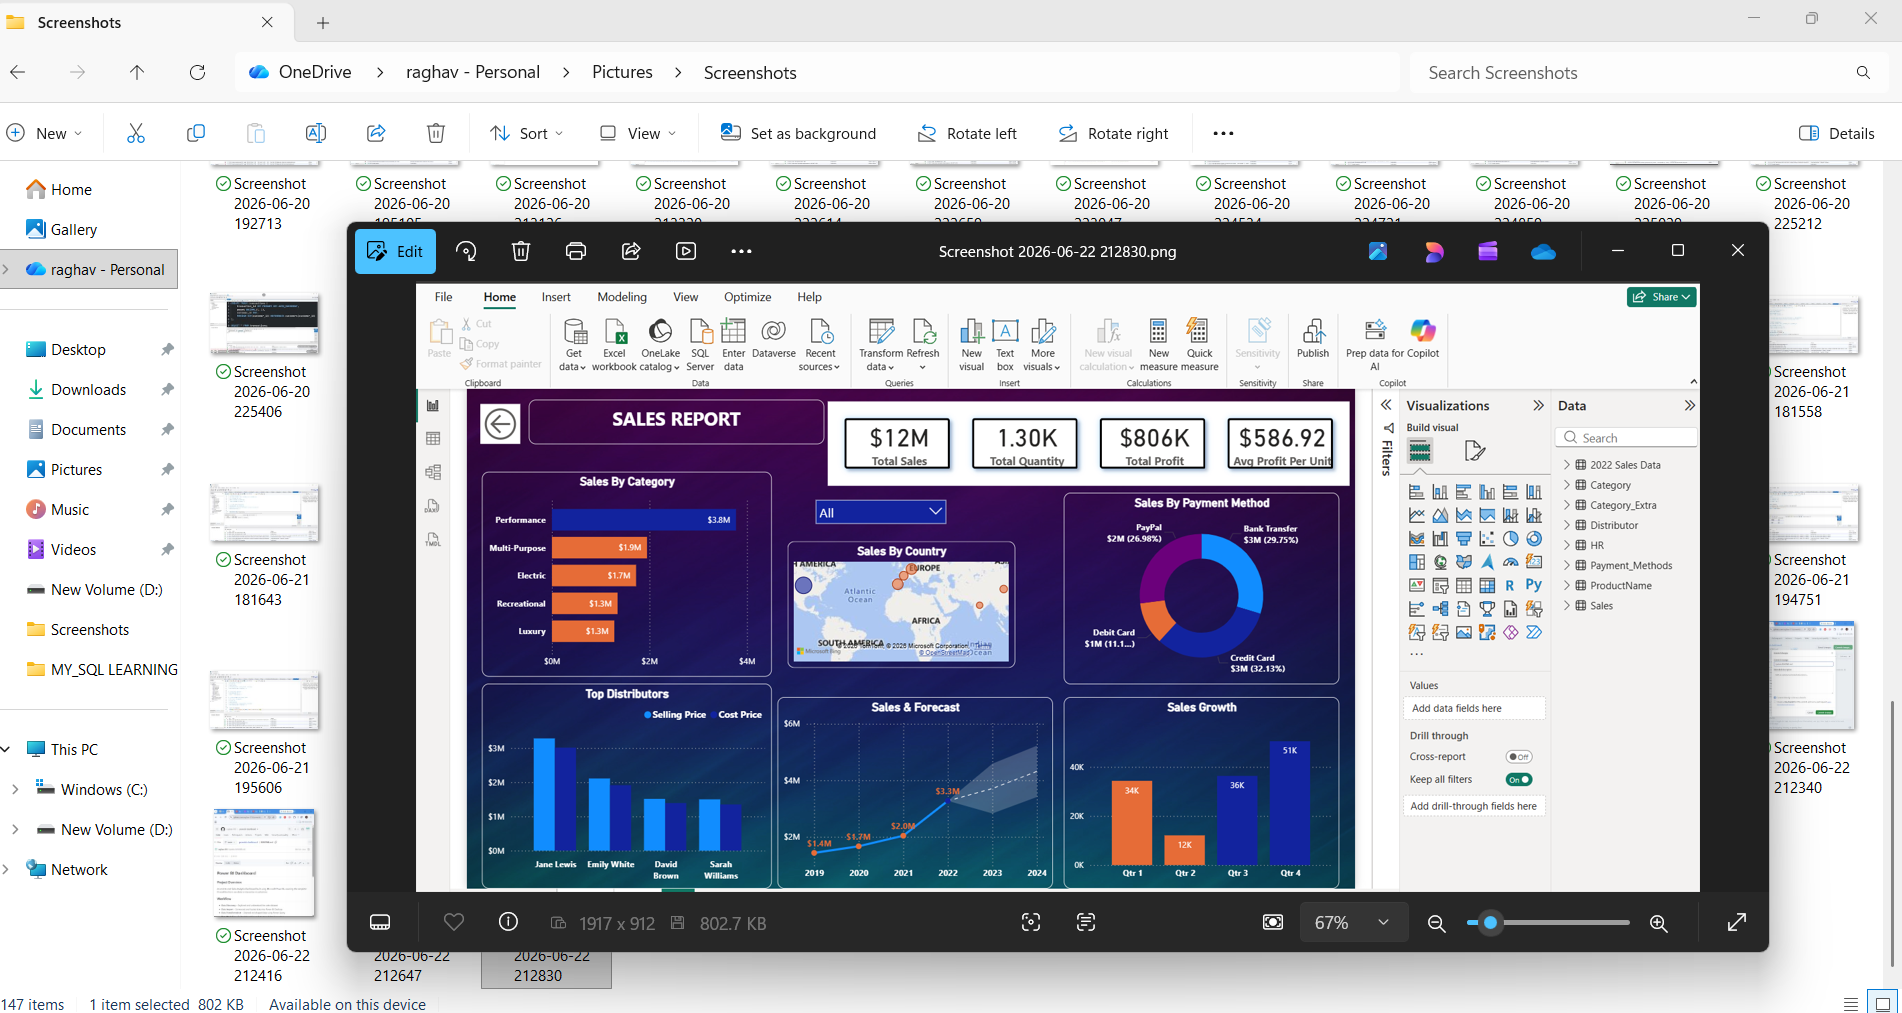

The page's visual inventory and layout, read from the dashboard file:
{"tool":"powerbi","page":{"name":"Sales","canvas":[1280,720],"ordinal":0},"visuals":[{"type":"textbox","box":[89.3,15.7,425.9,63.9],"z":0},{"type":"cardVisual","fields":{"Data":["Sum(Sales.Sales($))","Sum(Sales.QuantitySold )","Sum(Sales.Profit)","Avg(Sales.ProfitPerUnit)"]},"box":[515.2,13.3,764.9,131.5],"z":1000},{"type":"barChart","title":"Sales By Category","fields":{"Y":["Sum(Sales.Sales($))"],"Category":["Category.CategoryType"]},"box":[21.7,119.4,417.4,295.6],"z":2000},{"type":"clusteredColumnChart","title":"Top Distributors","fields":{"Y":["Sum(Sales.Sales($))","Sum(Sales.TotalProductionCost)"],"Category":["Distributor.FullName"]},"box":[21.7,424.7,417.4,295.6],"z":3000},{"type":"clusteredColumnChart","title":"Sales Growth","fields":{"Category":["Sales.Date       .Variation.Date Hierarchy.Year","Sales.Date       .Variation.Date Hierarchy.Quarter","Sales.Date       .Variation.Date Hierarchy.Month","Sales.Date       .Variation.Date Hierarchy.Day"],"Y":["Sum(Sales.Year)"]},"box":[860.2,444,396.9,276.3],"z":4000},{"type":"lineChart","title":"Sales & Forecast","fields":{"Category":["Sales.Date       .Variation.Date Hierarchy.Year","Sales.Date       .Variation.Date Hierarchy.Quarter","Sales.Date       .Variation.Date Hierarchy.Month","Sales.Date       .Variation.Date Hierarchy.Day"],"Y":["Sum(Sales.Sales($))"]},"box":[447.6,444,396.9,276.3],"z":5000},{"type":"map","title":"Sales By Country","fields":{"Category":["Distributor.Country"],"Size":["Sum(Sales.Sales($))"]},"box":[462.1,219.6,328.2,182.2],"z":6000},{"type":"donutChart","title":"Sales By Payment Method","fields":{"Y":["Sum(Sales.Sales($))"],"Series":["Sales.Payment_Methods. PaymentMethod "]},"box":[860.2,149.6,396.9,276.3],"z":7000},{"type":"slicer","fields":{"Values":["Sales.Date       .Variation.Date Hierarchy.Year"]},"box":[492.2,149.6,208.7,70],"z":8000},{"type":"actionButton","box":[19.3,21.7,57.9,57.9],"z":9000}]}

Visuals, with their boxes on the page's 1280x720 design canvas (x1, y1, x2, y2). These are canvas units, not pixel positions in the 1902x1013 screenshot, which may show the page scaled, cropped or inside an application window:
textbox: [left=89, top=16, right=515, bottom=80]
cardVisual - Sum(Sales.Sales($)) x Sum(Sales.QuantitySold ): [left=515, top=13, right=1280, bottom=145]
"Sales By Category" barChart: [left=22, top=119, right=439, bottom=415]
"Top Distributors" clusteredColumnChart: [left=22, top=425, right=439, bottom=720]
"Sales Growth" clusteredColumnChart: [left=860, top=444, right=1257, bottom=720]
"Sales & Forecast" lineChart: [left=448, top=444, right=844, bottom=720]
"Sales By Country" map: [left=462, top=220, right=790, bottom=402]
"Sales By Payment Method" donutChart: [left=860, top=150, right=1257, bottom=426]
slicer - Sales.Date       .Variation.Date Hierarchy.Year: [left=492, top=150, right=701, bottom=220]
actionButton: [left=19, top=22, right=77, bottom=80]
